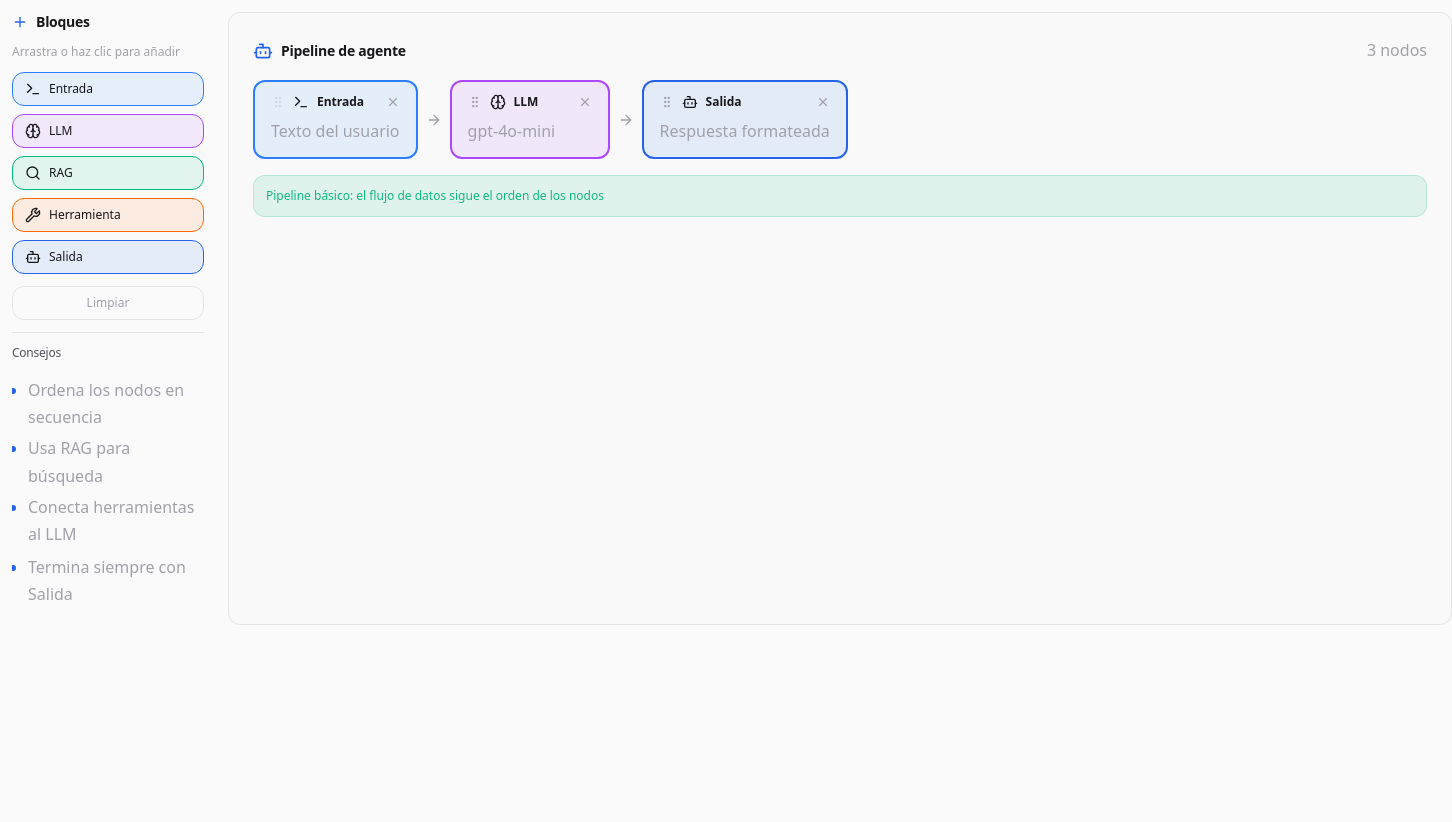
AgentFlow › muestra el estado vacío al eliminar todos los nodos
Click the 1st button named "Eliminar nodo": coordinates (392, 102) [386,95,400,109]
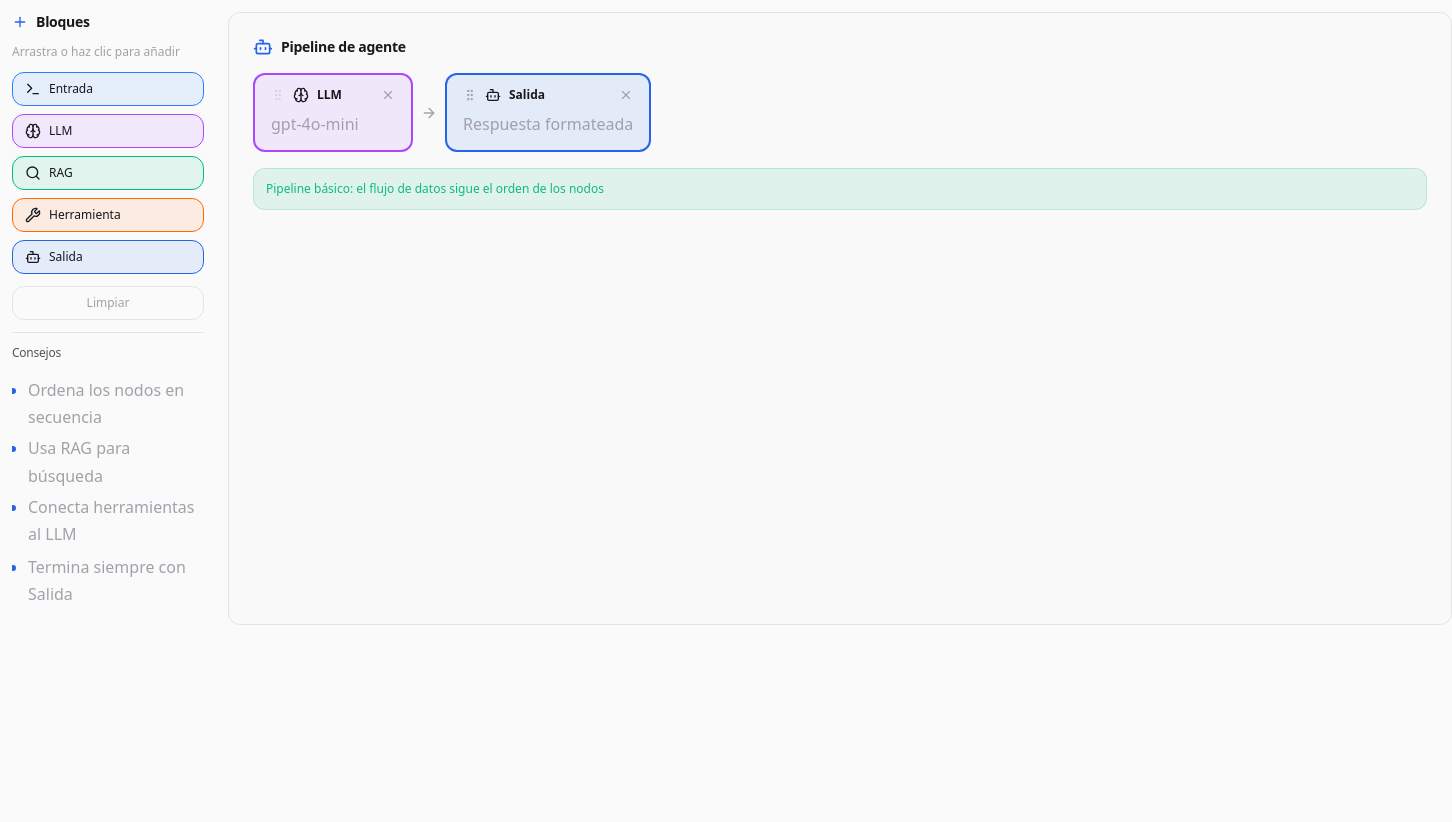
Click the 1st button named "Eliminar nodo": coordinates (388, 95) [381,88,395,102]
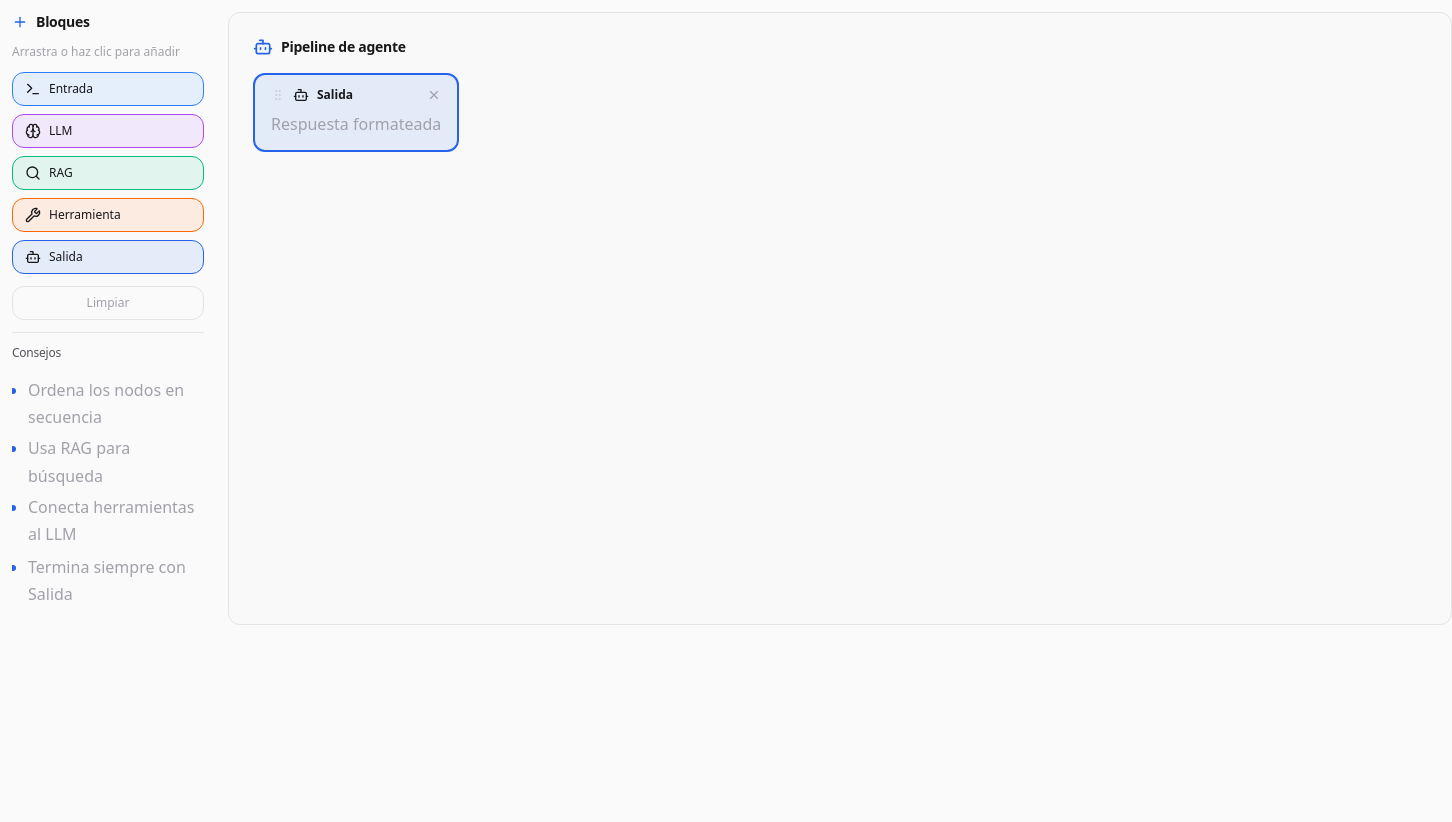
Click the button named "Eliminar nodo": coordinates (434, 95) [427,88,441,102]
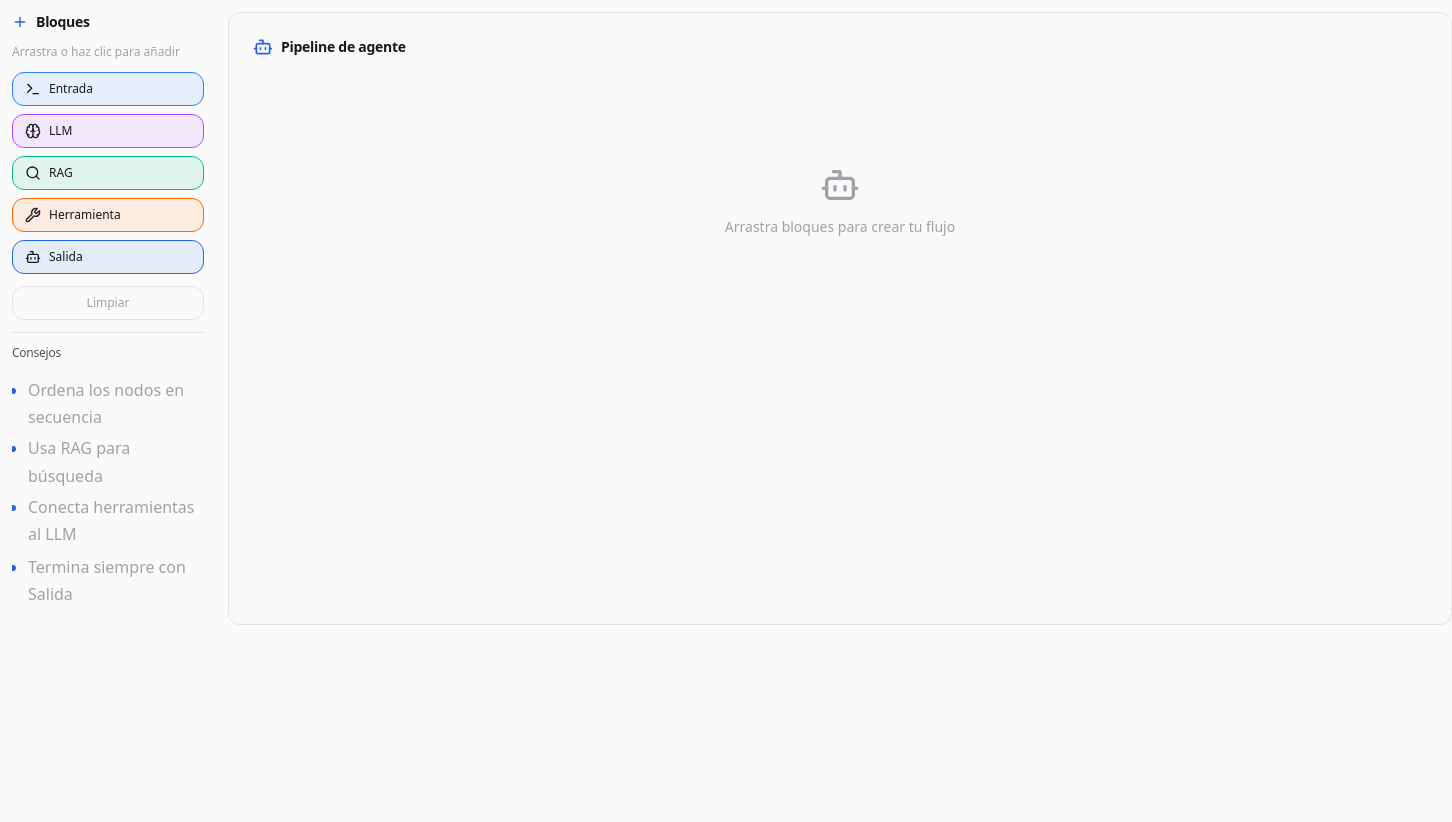
Expected: the text "Arrastra bloques para crear tu flujo" is shown, [725,217,955,237]
